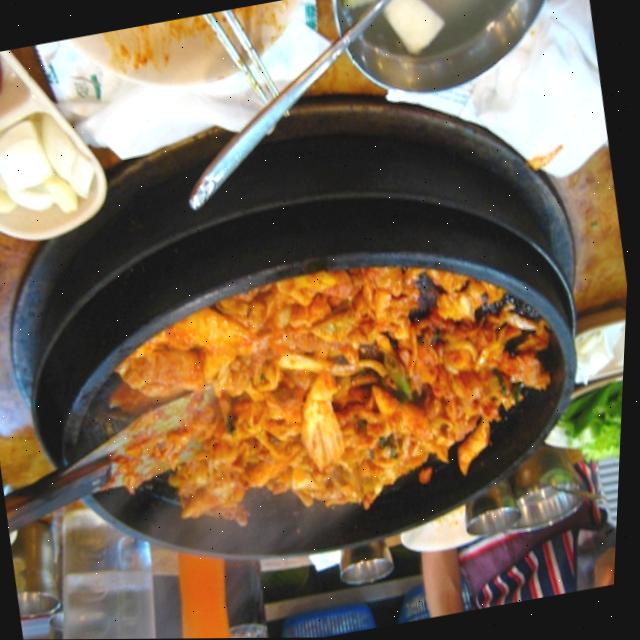鸡肉料理 含炸鸡: (29, 202, 594, 596)
